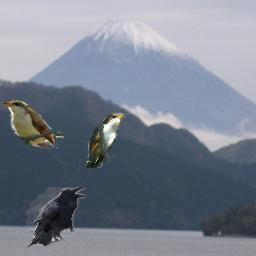Crow: (26, 187, 86, 249)
Cuckoo: (0, 96, 64, 149), (86, 112, 126, 168)
